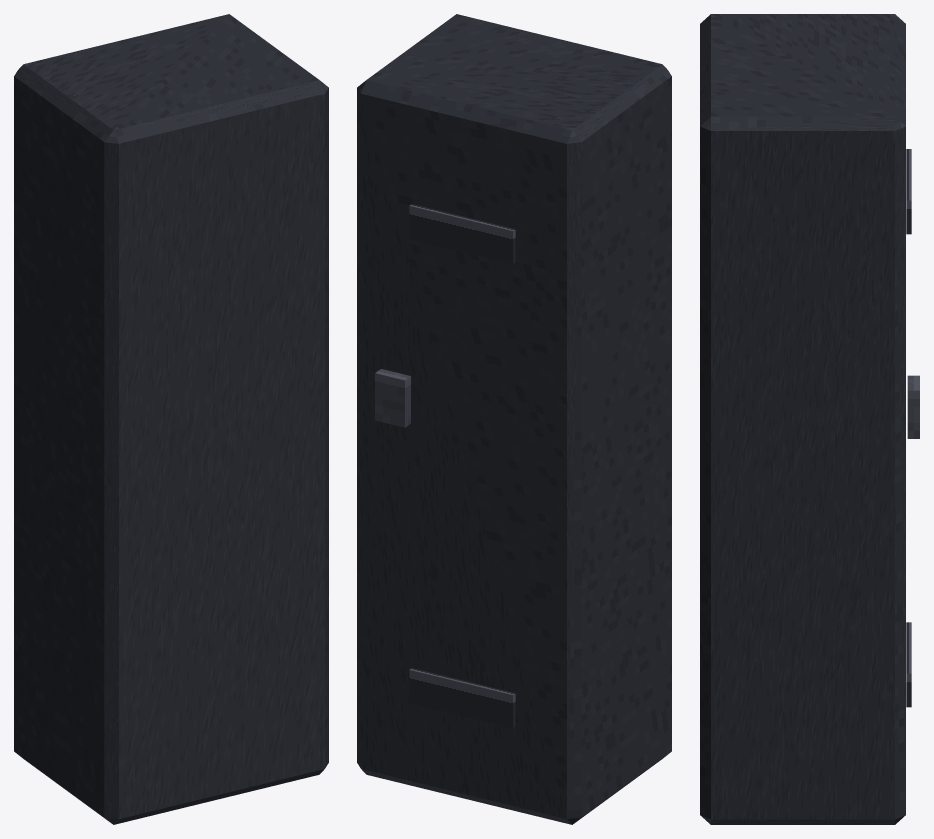
Rendered from f_vitrified_locker.glb.
3 views of the same model, side by side, from view 1: azimuth 30°, elevation 25°; view 2: azimuth 150°, elevation 25°; view 3: azimuth 270°, elevation 25° (orthographic).
Parts seen in each view (by area): view 1: block_fused-glass-locker; view 2: block_fused-glass-locker, block_glassy-locker-vent (×2), block_fused-locker-handle; view 3: block_fused-glass-locker, block_glassy-locker-vent (×2), block_fused-locker-handle.
Boxes of the visible parts, <box> form: block_fused-glass-locker: <box>14,14,328,824</box>; block_fused-glass-locker: <box>357,14,671,824</box>; block_glassy-locker-vent (×2): <box>409,204,515,727</box>; block_fused-locker-handle: <box>375,369,410,427</box>; block_fused-glass-locker: <box>700,14,905,824</box>; block_glassy-locker-vent (×2): <box>906,149,911,707</box>; block_fused-locker-handle: <box>907,375,919,438</box>.
Size of the model in its own units: 0.606 by 1.79 by 0.504.
1 material, 1 textured.
